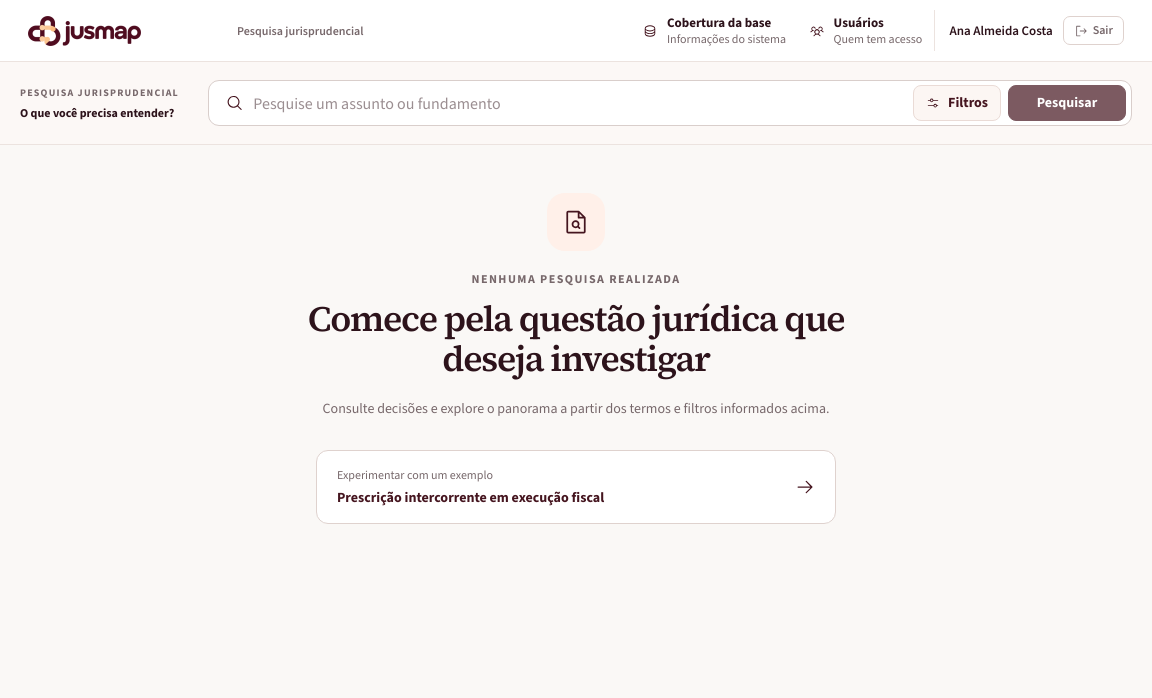
Scenario: choosing decisions from the results › never lets a late answer replace the decision chosen after it
The image size is (1152, 698).
Type "prescrição intercorrente em execução fiscal" into the search field named "Pesquisar decisões" at (578, 103), box top-left (253, 85), bottom-right (903, 121)
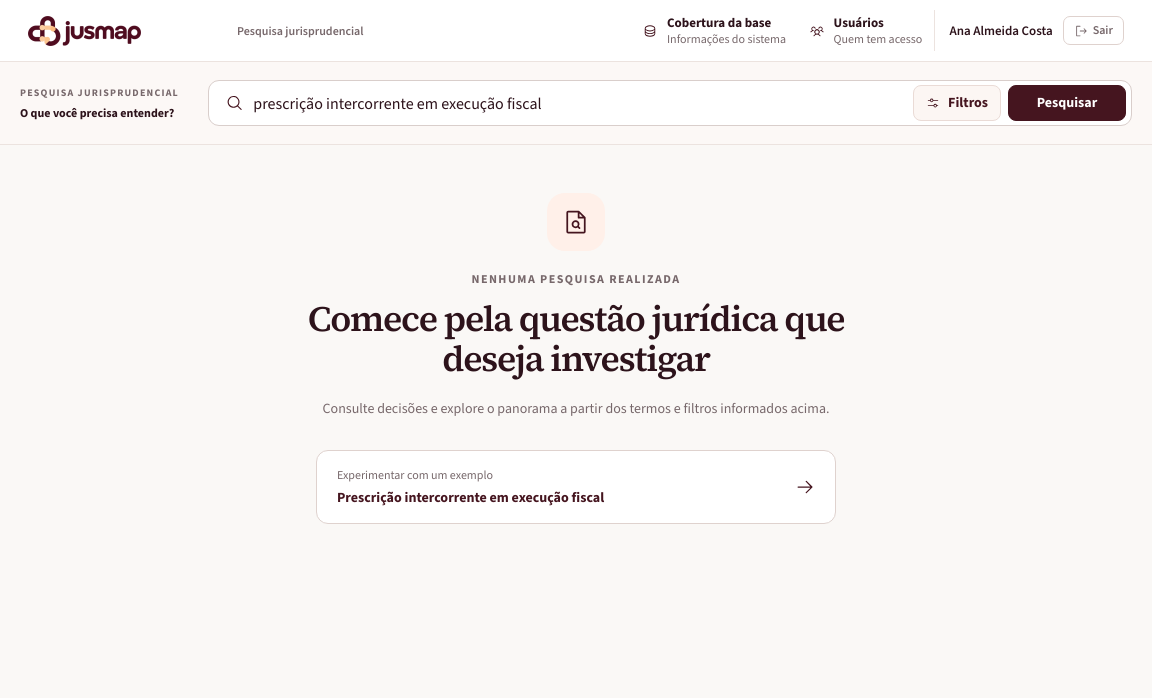
Click the button "Pesquisar" at (1067, 103), box top-left (1008, 85), bottom-right (1126, 121)
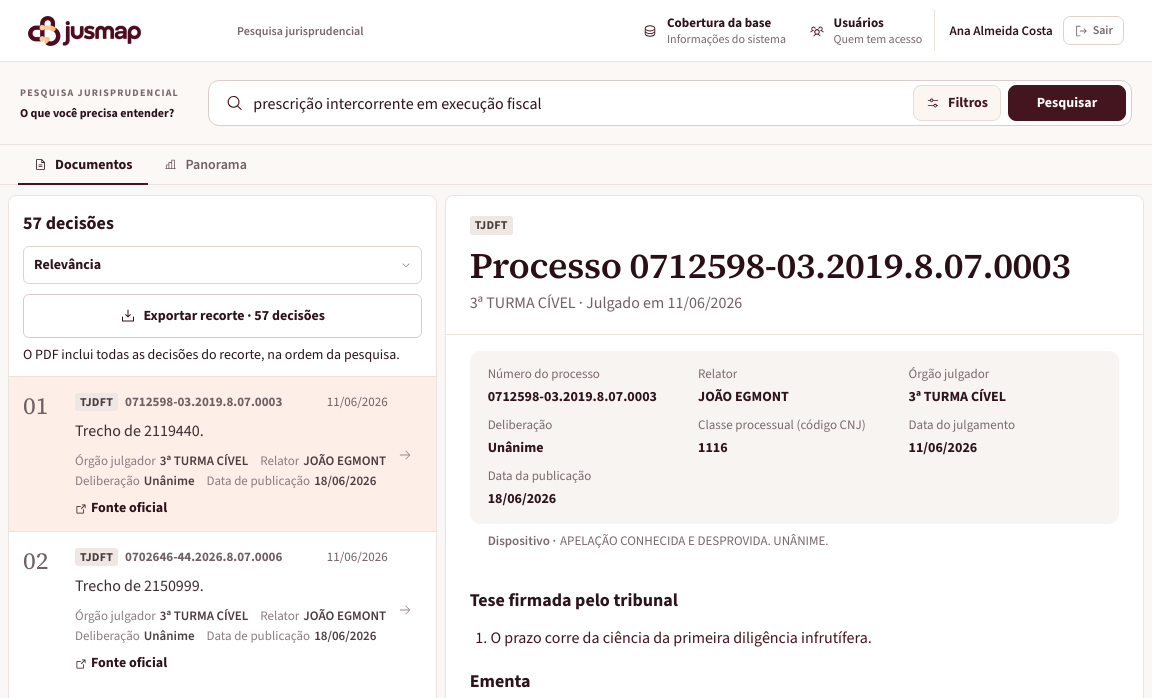
Check: the heading "Processo 0712598-03.2019.8.07.0003" is shown, box top-left (470, 245), bottom-right (1070, 286)
Click the link named "Ler a decisão do processo 0702646" next to "0702646-44.2026.8.07.0006" at (185, 541), box top-left (8, 531), bottom-right (362, 552)
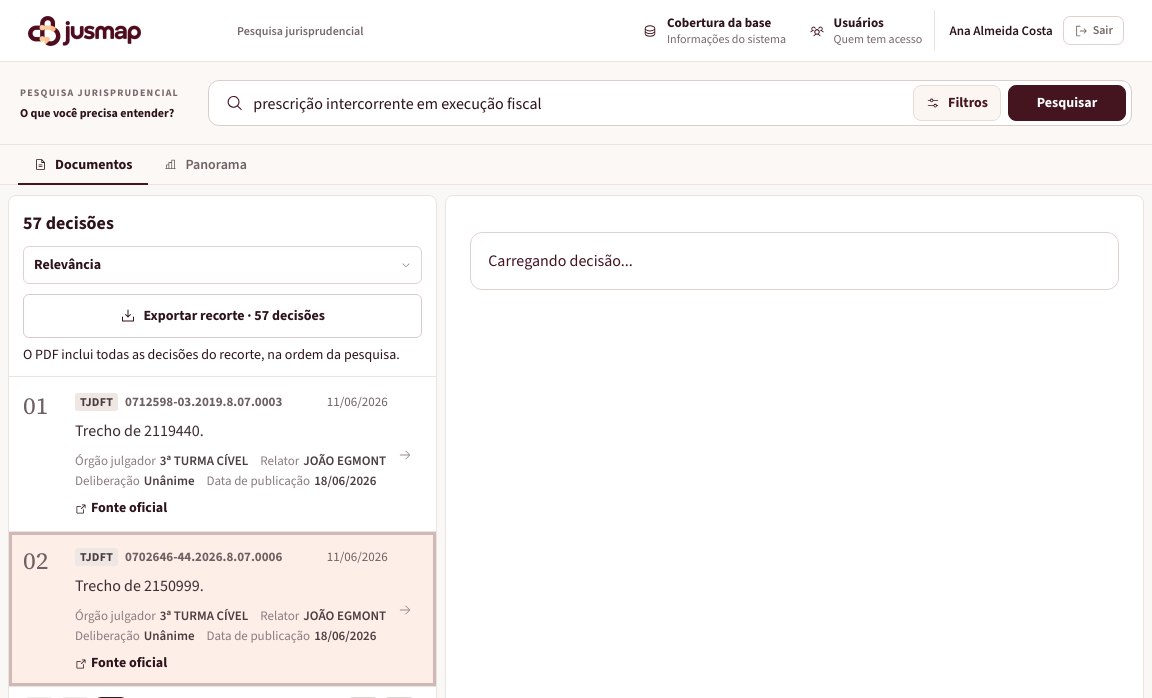
Click the link named "Ler a decisão do processo 0712598" next to "0712598-03.2019.8.07.0003" at (185, 386), box top-left (8, 376), bottom-right (362, 397)
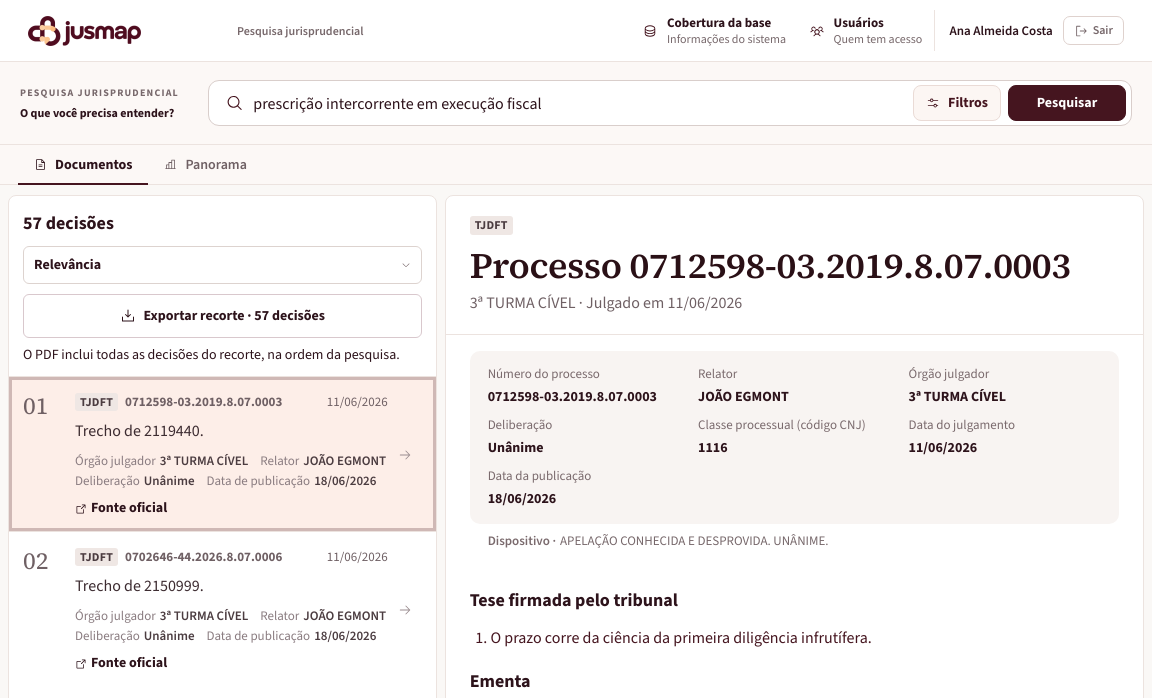
Check: the heading "Processo 0712598-03.2019.8.07.0003" is shown, box top-left (470, 245), bottom-right (1070, 286)
